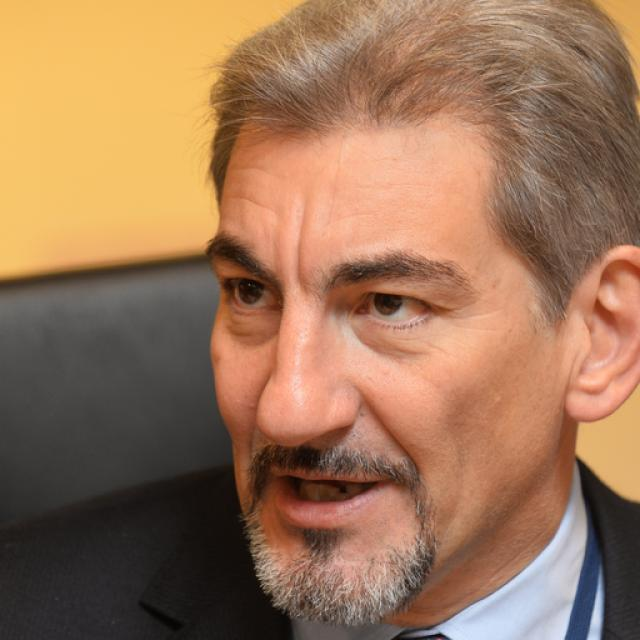anger: (207, 94, 568, 626)
